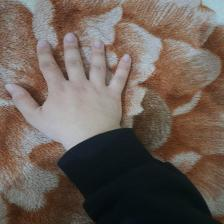five: (7, 31, 136, 136)
